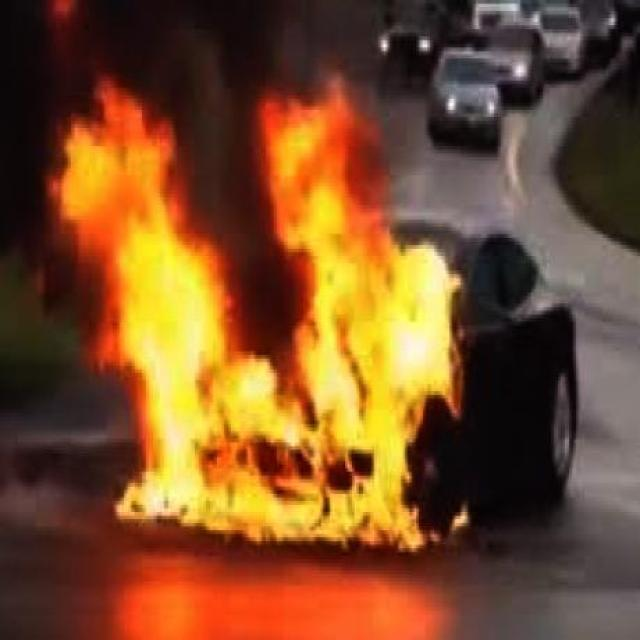Fire: (54, 73, 470, 564)
Smoke: (4, 2, 494, 84), (168, 57, 256, 241), (3, 85, 56, 304)
